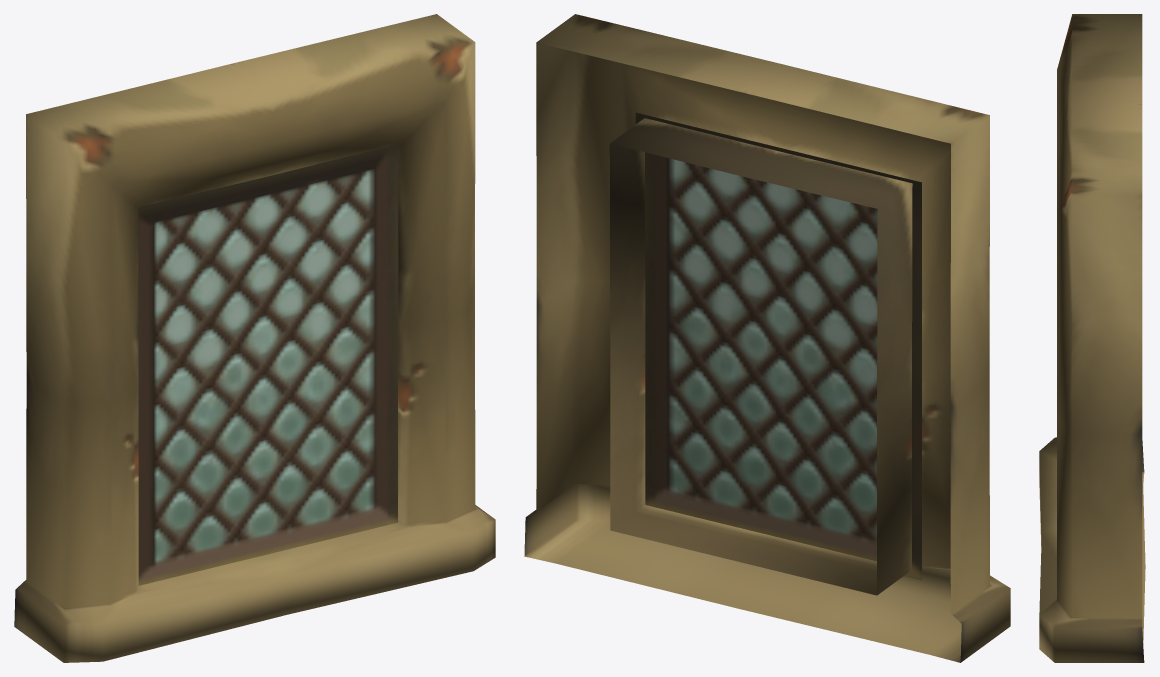
Rendered from window-3.FBX.
3 views of the same model, side by side, from view 1: azimuth 30°, elevation 25°; view 2: azimuth 150°, elevation 25°; view 3: azimuth 270°, elevation 25° (orthographic). The views are drawn at different scales.
Parts seen in each view (by area): view 1: window-3; view 2: window-3; view 3: window-3.
Boxes of the visible parts, <box> form: window-3: <box>14,14,495,662</box>; window-3: <box>524,14,1010,662</box>; window-3: <box>1039,14,1145,662</box>.
Bounding box in the file's own units: 306 × 346 × 71.93.
